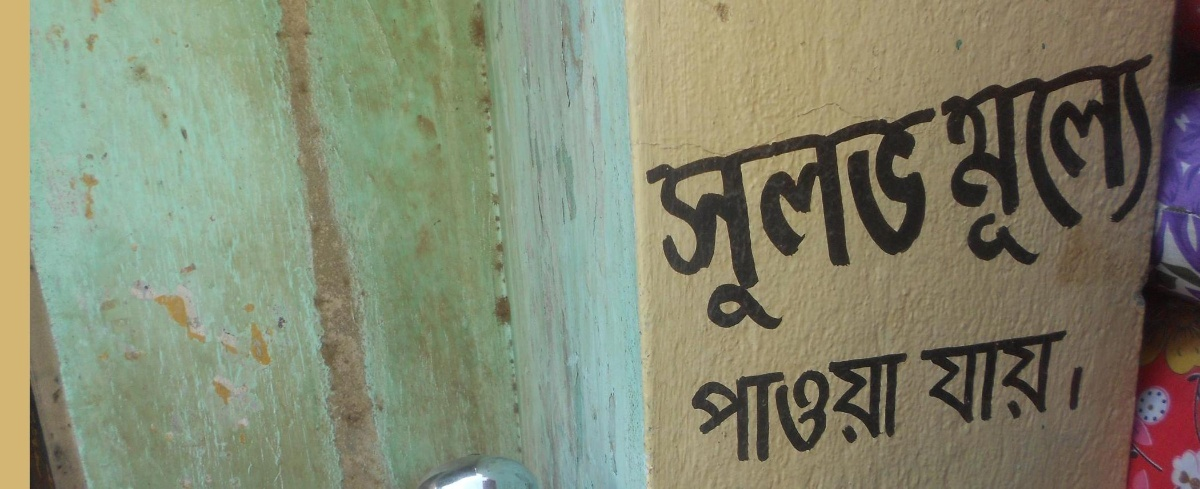text: (641, 94, 656, 356), (657, 94, 672, 356), (673, 94, 688, 356), (689, 94, 704, 356), (705, 94, 720, 356), (721, 94, 736, 356), (737, 94, 752, 356), (753, 94, 768, 356), (769, 94, 784, 356), (785, 94, 800, 356), (801, 94, 816, 356), (817, 94, 832, 356), (833, 94, 848, 356), (849, 94, 864, 356), (865, 94, 880, 356), (881, 94, 896, 356), (897, 94, 912, 356), (913, 94, 928, 356), (945, 47, 960, 284), (961, 47, 976, 284), (977, 47, 992, 284), (993, 47, 1008, 284), (1009, 47, 1024, 284), (1025, 47, 1040, 284), (1041, 47, 1056, 284), (1057, 47, 1072, 284), (1073, 47, 1088, 284), (1089, 47, 1104, 284), (1105, 47, 1120, 284), (1121, 47, 1136, 284), (1137, 47, 1152, 284), (929, 94, 938, 356), (1153, 47, 1162, 284), (689, 345, 704, 472), (705, 345, 720, 472), (721, 345, 736, 472), (737, 345, 752, 472), (753, 345, 768, 472), (769, 345, 784, 472), (785, 345, 800, 472), (801, 345, 816, 472), (817, 345, 832, 472), (833, 345, 848, 472), (849, 345, 864, 472), (865, 345, 880, 472), (881, 345, 896, 472), (897, 345, 911, 472), (929, 322, 944, 432), (945, 322, 960, 432), (961, 322, 976, 432), (977, 322, 992, 432), (993, 322, 1008, 432), (1009, 322, 1024, 432), (1025, 322, 1040, 432), (1041, 322, 1056, 432), (1057, 322, 1072, 432), (1073, 322, 1088, 432), (1089, 322, 1103, 432), (635, 94, 640, 356), (939, 47, 944, 284), (918, 322, 928, 432), (685, 345, 688, 472)
